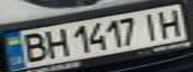1: (69, 22, 90, 54), (103, 17, 124, 48)
4: (87, 20, 109, 52)
7: (118, 15, 142, 45)
B: (15, 29, 51, 63)
H: (151, 7, 187, 38), (42, 26, 72, 59)
I: (136, 10, 163, 40)
